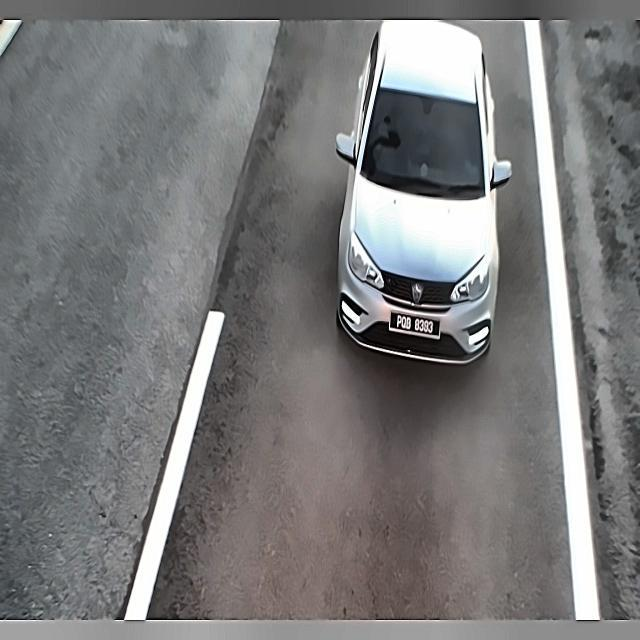car: (384, 308, 448, 344)
